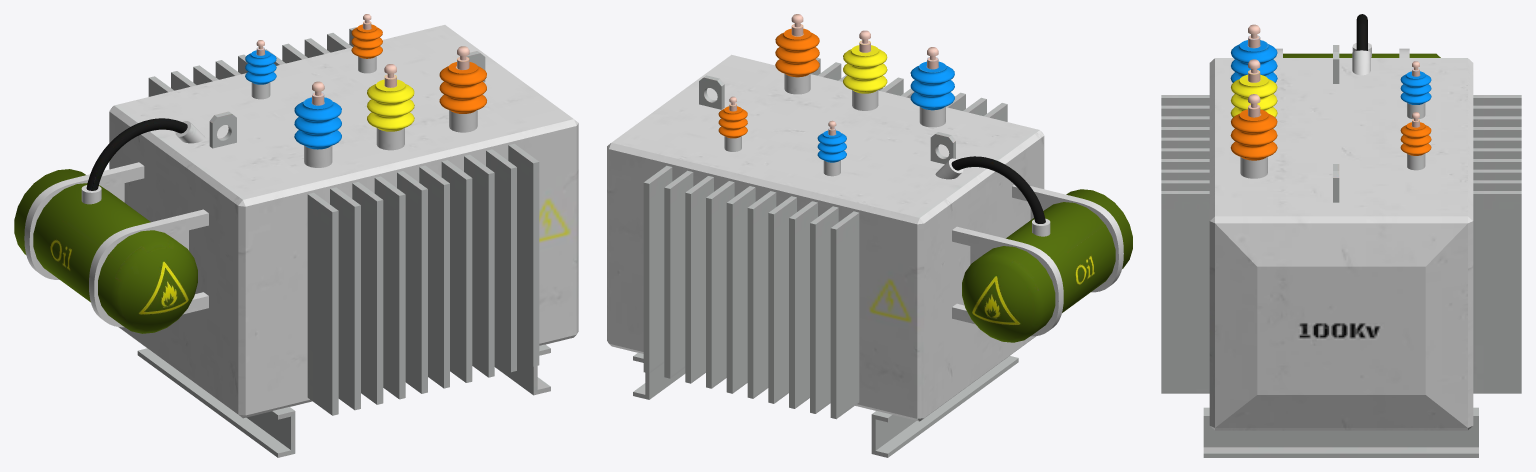
Rendered from transformer.glb.
The picture shows the model from 3 angles, left to right: view 1: azimuth 30°, elevation 25°; view 2: azimuth 150°, elevation 25°; view 3: azimuth 270°, elevation 25°; orthographic projection. The views are drawn at different scales.
Visible parts, largest first — view 1: Transformator, izolator; view 2: Transformator, izolator; view 3: Transformator, izolator.
Part boxes in pixels (left/top/right/bottom): Transformator: left=24, top=25, right=578, bottom=457; izolator: left=14, top=14, right=486, bottom=333; Transformator: left=607, top=54, right=1123, bottom=457; izolator: left=699, top=14, right=1132, bottom=342; Transformator: left=1161, top=43, right=1521, bottom=457; izolator: left=1230, top=14, right=1440, bottom=202.
Bounding box in the file's own units: 2.87 × 2 × 1.96.
2 materials, 2 textured.
